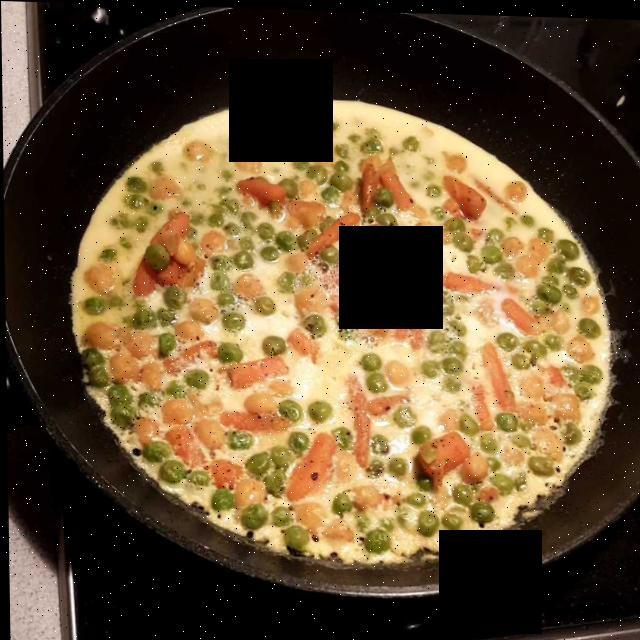pizza: (142, 145, 542, 548)
vegetables: (82, 119, 591, 538)
